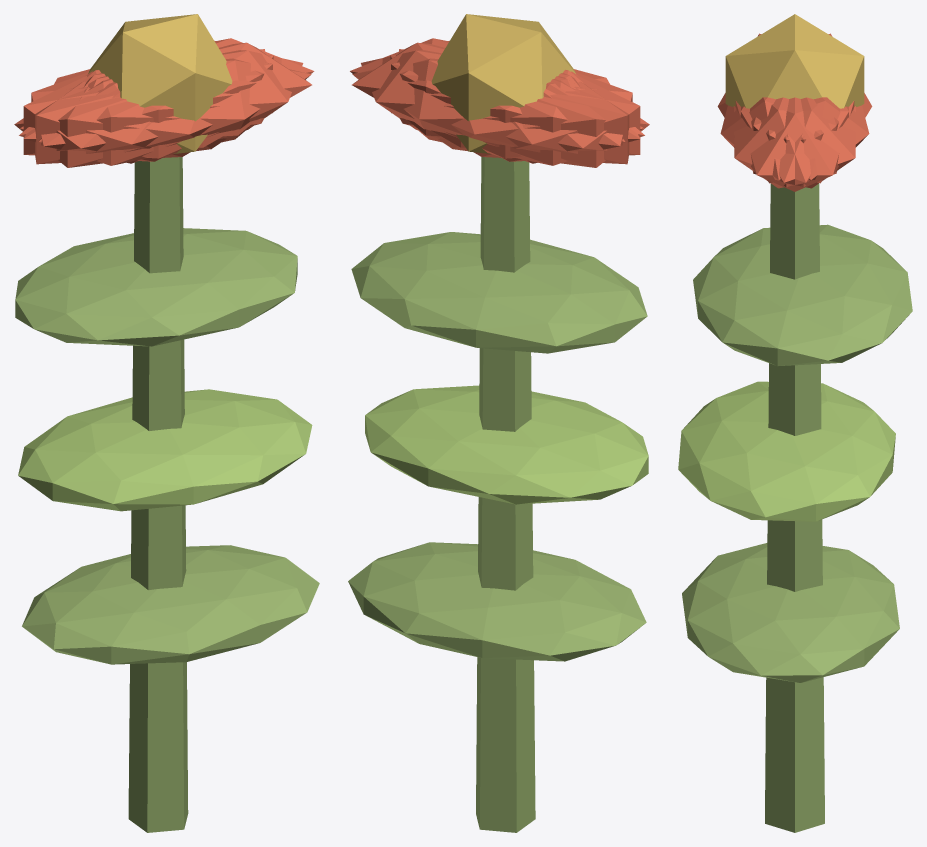
File: synedrella-nodiflora.glb
3 renders of one model, left to right at view 1: azimuth 30°, elevation 25°; view 2: azimuth 150°, elevation 25°; view 3: azimuth 270°, elevation 25°, orthographic.
Visible parts, largest first — view 1: leaf1, leaf0, stem, leaf2, center, petal1, petal6, petal2, petal5, petal7, petal0, petal4 (+2 smaller); view 2: leaf2, stem, leaf0, leaf1, center, petal8, petal3, petal7, petal4, petal2, petal0, petal5 (+2 smaller); view 3: leaf2, leaf0, leaf1, stem, center, petal0, petal5, petal4, petal8, petal1.
Part boxes in pixels (x1=…): leaf1: x1=18, y1=389, x2=312, y2=511; leaf0: x1=22, y1=545, x2=319, y2=664; stem: x1=128, y1=157, x2=188, y2=832; leaf2: x1=15, y1=228, x2=297, y2=346; center: x1=88, y1=14, x2=232, y2=153; petal1: x1=19, y1=58, x2=311, y2=165; petal6: x1=14, y1=71, x2=226, y2=167; petal2: x1=35, y1=49, x2=265, y2=164; petal5: x1=39, y1=50, x2=303, y2=158; petal7: x1=23, y1=55, x2=273, y2=161; petal0: x1=88, y1=42, x2=311, y2=148; petal4: x1=20, y1=38, x2=314, y2=139; leaf2: x1=351, y1=232, x2=647, y2=353; stem: x1=476, y1=157, x2=535, y2=832; leaf0: x1=348, y1=542, x2=646, y2=661; leaf1: x1=365, y1=385, x2=648, y2=504; center: x1=431, y1=14, x2=575, y2=153; petal8: x1=352, y1=58, x2=644, y2=165; petal3: x1=437, y1=71, x2=649, y2=167; petal7: x1=399, y1=49, x2=629, y2=164; petal4: x1=361, y1=50, x2=625, y2=158; petal2: x1=390, y1=55, x2=640, y2=161; petal0: x1=352, y1=42, x2=576, y2=148; petal5: x1=350, y1=38, x2=643, y2=139; leaf2: x1=693, y1=224, x2=912, y2=366; leaf0: x1=682, y1=543, x2=899, y2=682; leaf1: x1=678, y1=381, x2=895, y2=521; stem: x1=765, y1=183, x2=824, y2=832; center: x1=725, y1=14, x2=864, y2=108; petal0: x1=735, y1=97, x2=854, y2=191; petal5: x1=733, y1=97, x2=848, y2=188; petal4: x1=741, y1=97, x2=855, y2=188; petal8: x1=751, y1=97, x2=869, y2=180; petal1: x1=720, y1=97, x2=838, y2=180.
Bounding box in the file's own units: 0.1452 × 0.3842 × 0.1037.
